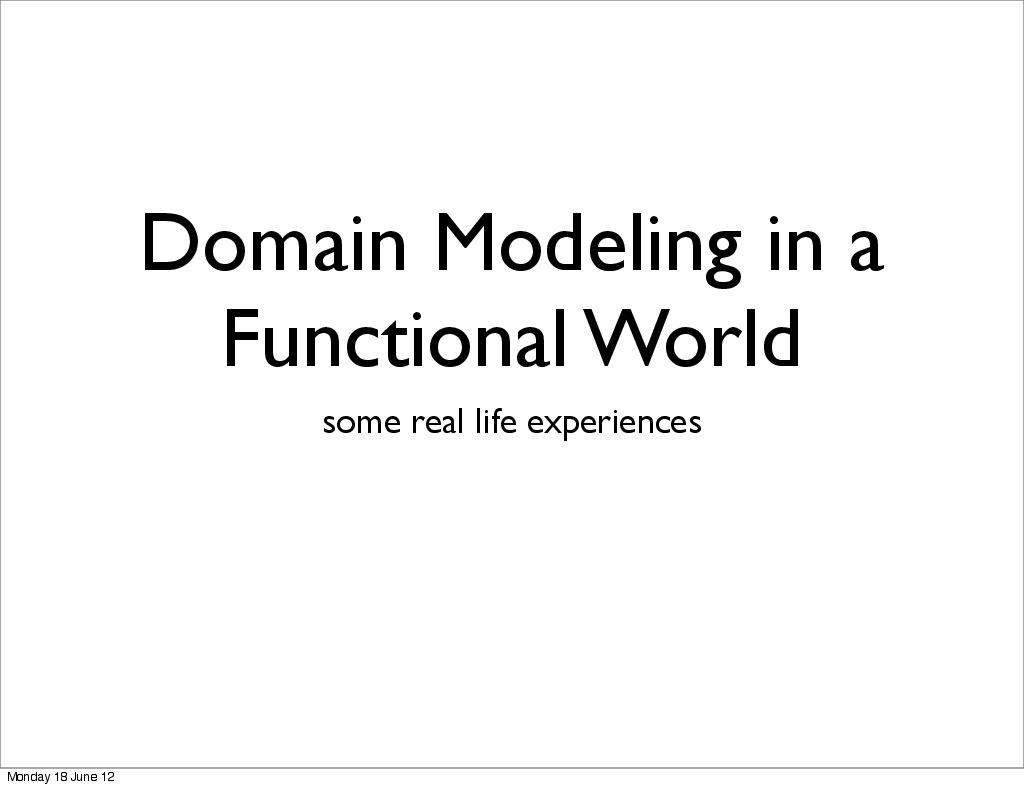title: (126, 160, 906, 451)
